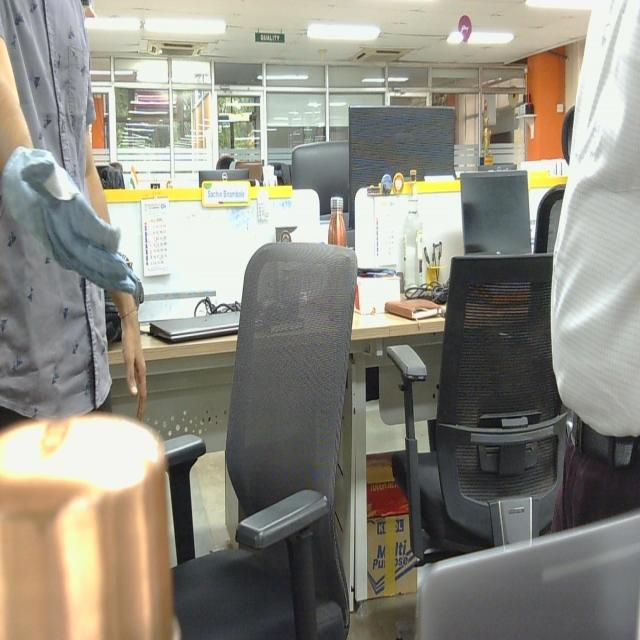Gloves-Detection: (3, 146, 134, 310)
